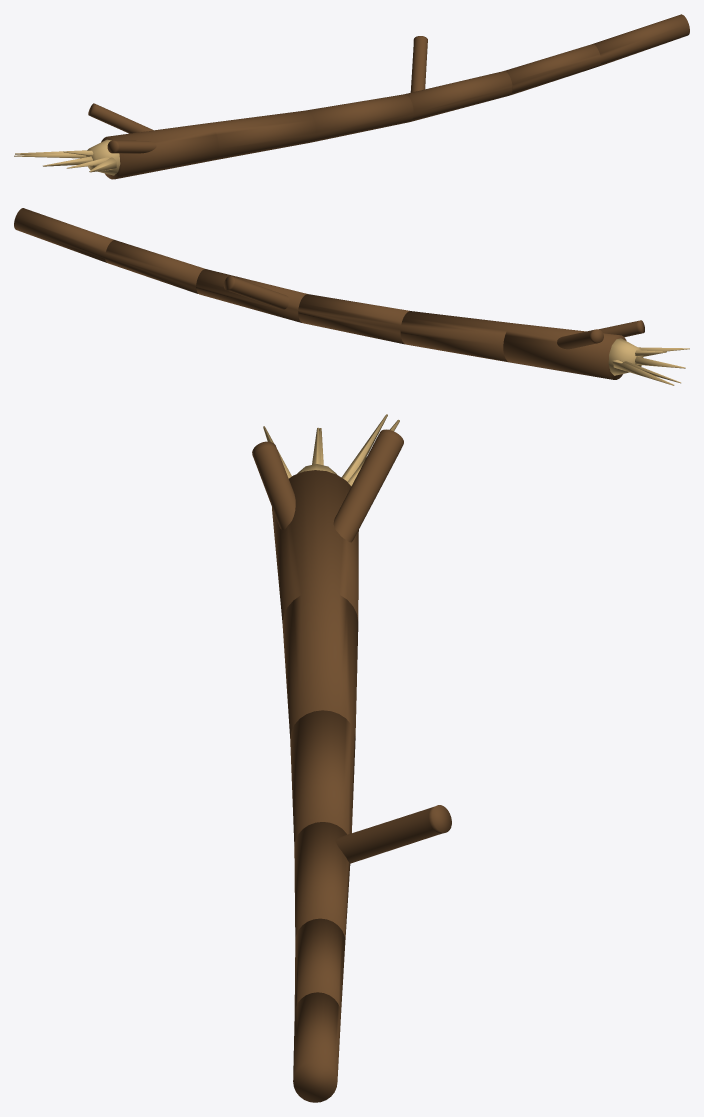
The picture shows the model from 3 angles, top to bottom: view 1: azimuth 30°, elevation 25°; view 2: azimuth 150°, elevation 25°; view 3: azimuth 270°, elevation 25°; orthographic projection. The views are drawn at different scales.
Parts seen in each view (by area): view 1: Shaft, FrayedTip, Branch1, ForkA, ForkB; view 2: Shaft, FrayedTip, Branch1, ForkA, ForkB; view 3: Shaft, Branch1, ForkA, ForkB, FrayedTip.
Part boxes in pixels (x1,y1,x2,y2): Shaft: (101, 14, 689, 179); FrayedTip: (14, 139, 120, 175); Branch1: (410, 36, 427, 92); ForkA: (88, 103, 153, 133); ForkB: (107, 140, 156, 153); Shaft: (14, 208, 626, 379); FrayedTip: (608, 338, 689, 385); Branch1: (223, 276, 289, 309); ForkA: (557, 329, 603, 349); ForkB: (599, 320, 644, 337); Shaft: (272, 470, 358, 1102); Branch1: (335, 805, 451, 863); ForkA: (333, 429, 403, 542); ForkB: (252, 441, 295, 529); FrayedTip: (263, 414, 399, 486).
Bounding box in the file's own units: 0.5921 × 0.0669 × 0.0784.
